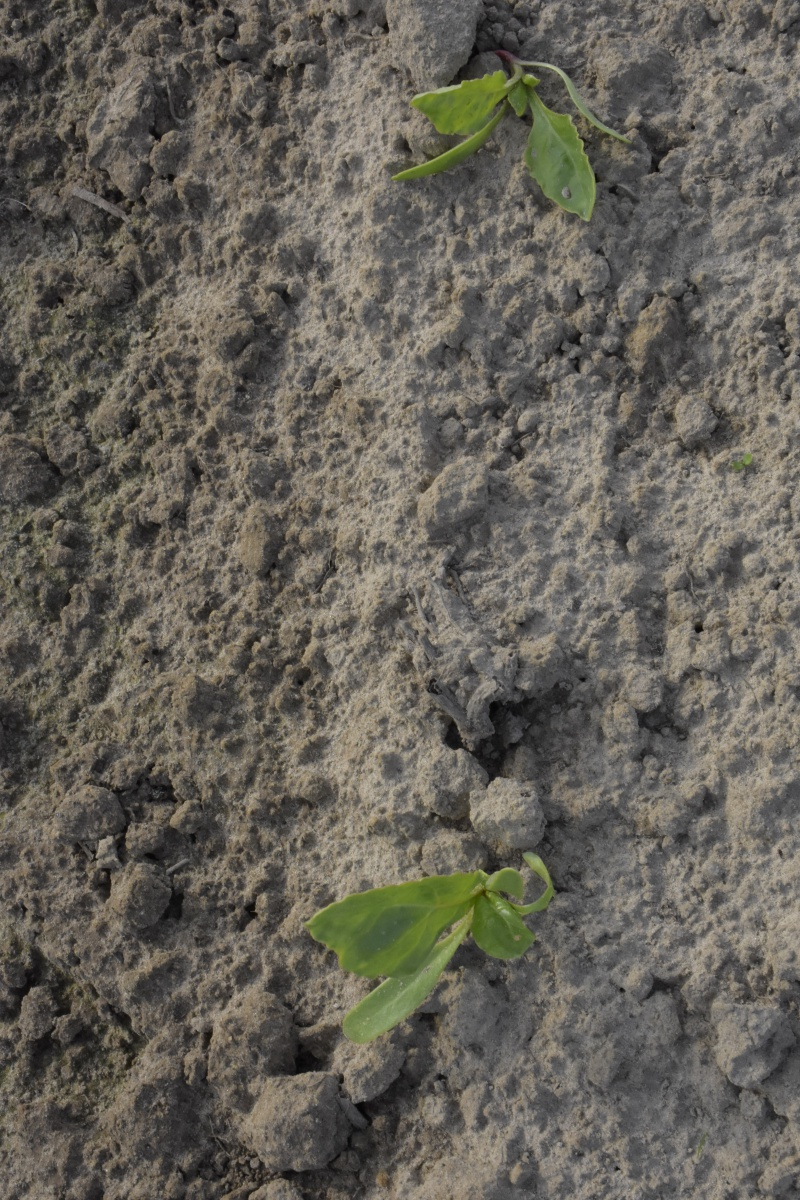sugar beet: (301, 853, 551, 1053), (394, 44, 636, 224)
